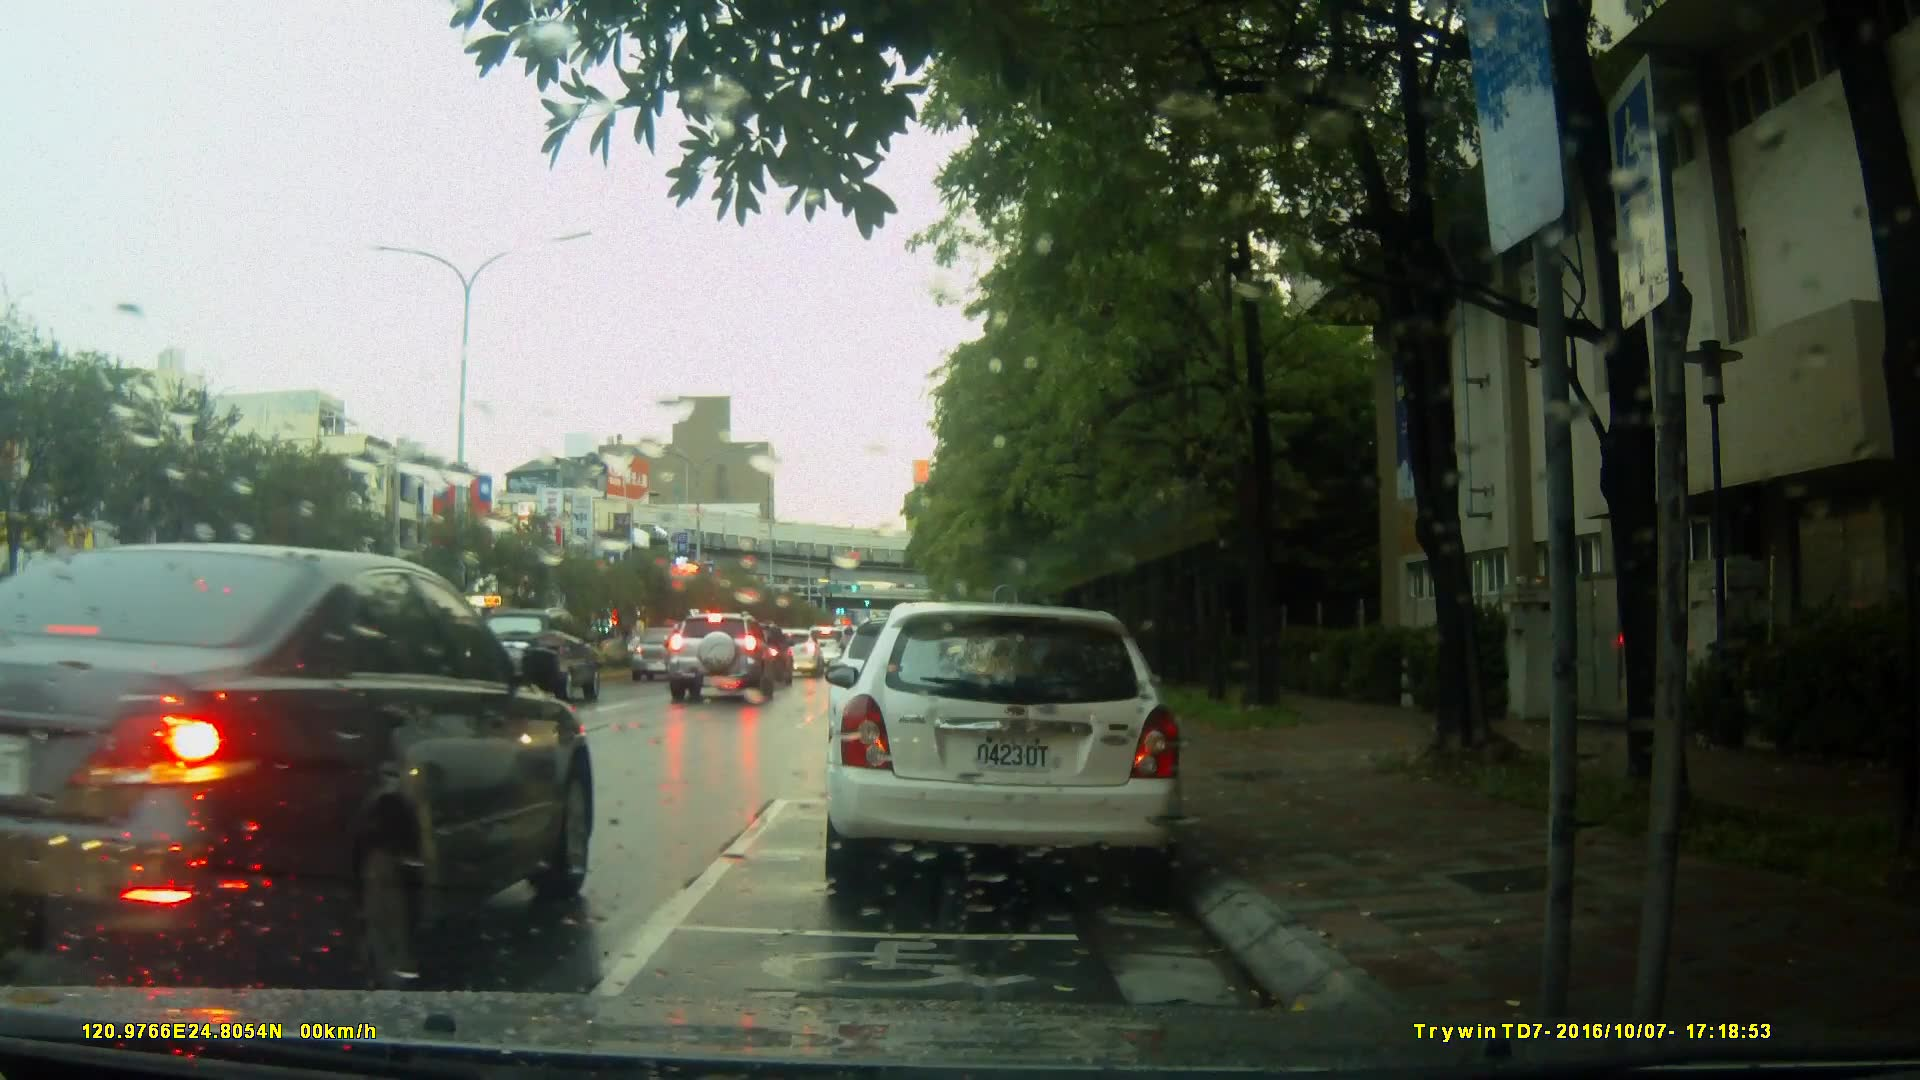rider: (840, 625, 864, 682)
vehicle: (1, 539, 596, 991), (820, 602, 1188, 898), (461, 607, 600, 709), (668, 612, 773, 705)
